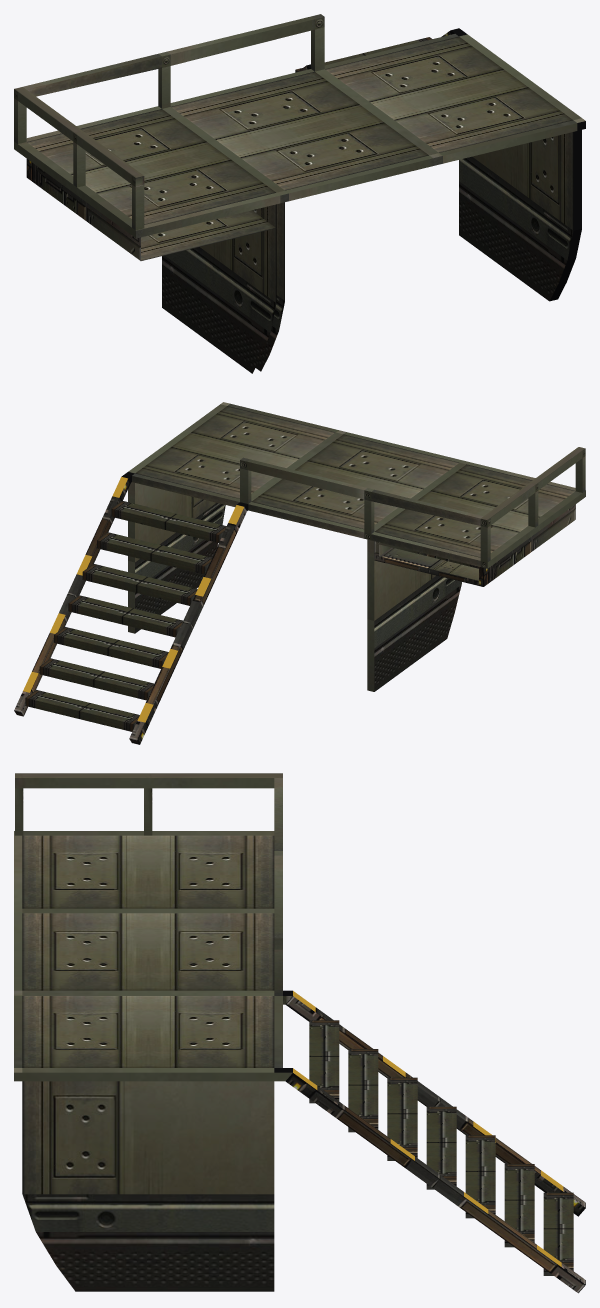
The model's file is Lack_Floor.glb.
3 renders of one model, top to bottom at view 1: azimuth 30°, elevation 25°; view 2: azimuth 150°, elevation 25°; view 3: azimuth 270°, elevation 25°, orthographic. The views are drawn at different scales.
Visible parts, largest first — view 1: Lack_Fillor; view 2: Lack_Fillor; view 3: Lack_Fillor.
Part boxes in pixels (x1=…): Lack_Fillor: x1=14, y1=14, x2=585, y2=373; Lack_Fillor: x1=14, y1=402, x2=585, y2=744; Lack_Fillor: x1=14, y1=773, x2=585, y2=1293.
Size of what is drawn, in the model's own units: 11.73 by 6.31 by 11.74.
2 materials, 1 textured.
